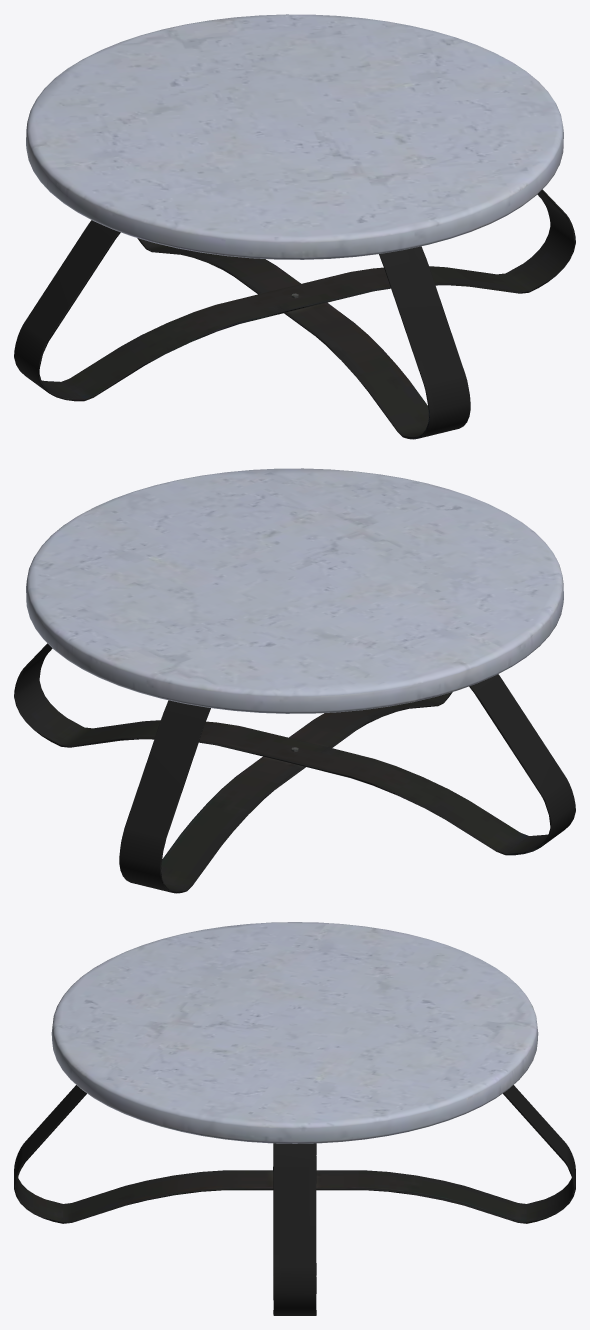
Rendered from coffee-table.glb.
3 views of the same model, one above another, from view 1: azimuth 30°, elevation 25°; view 2: azimuth 150°, elevation 25°; view 3: azimuth 270°, elevation 25° (orthographic). The views are drawn at different scales.
Parts seen in each view (by area): view 1: coffee_table_round_01; view 2: coffee_table_round_01; view 3: coffee_table_round_01.
Part boxes in pixels (x1=…): coffee_table_round_01: x1=14, y1=14, x2=575, y2=439; coffee_table_round_01: x1=14, y1=468, x2=575, y2=893; coffee_table_round_01: x1=14, y1=922, x2=575, y2=1315.
Size of the model in its own units: 1.3 by 0.4909 by 1.3.
Materials: 1 (1 with a texture image).
